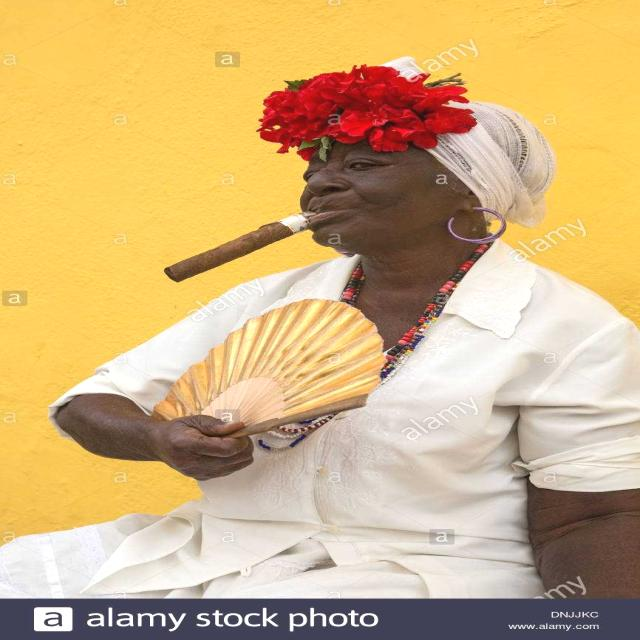Smooking: (148, 197, 324, 289)
